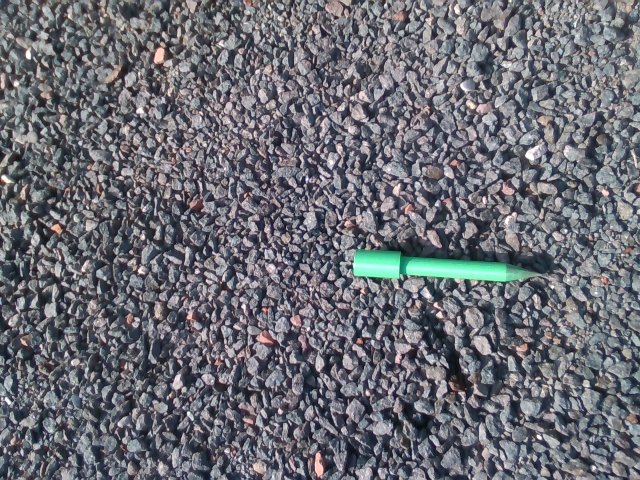Probe: (349, 247, 553, 287)
